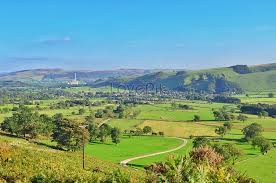field: (7, 102, 270, 183)
mountain: (3, 67, 276, 101)
sky: (1, 3, 272, 64)
